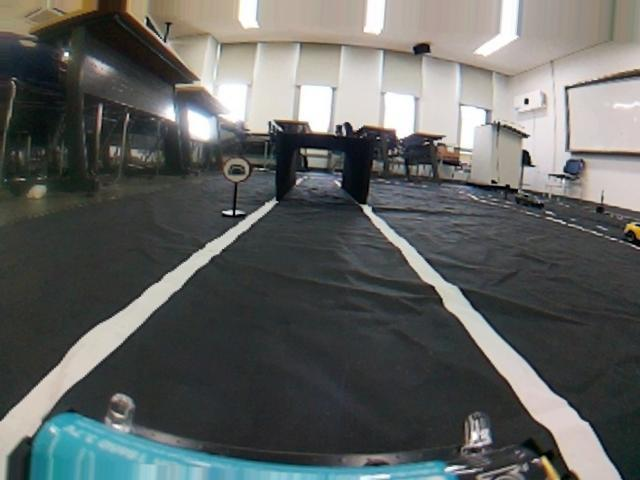sign_tunnel: (222, 155, 257, 185)
straight: (0, 198, 640, 480)
